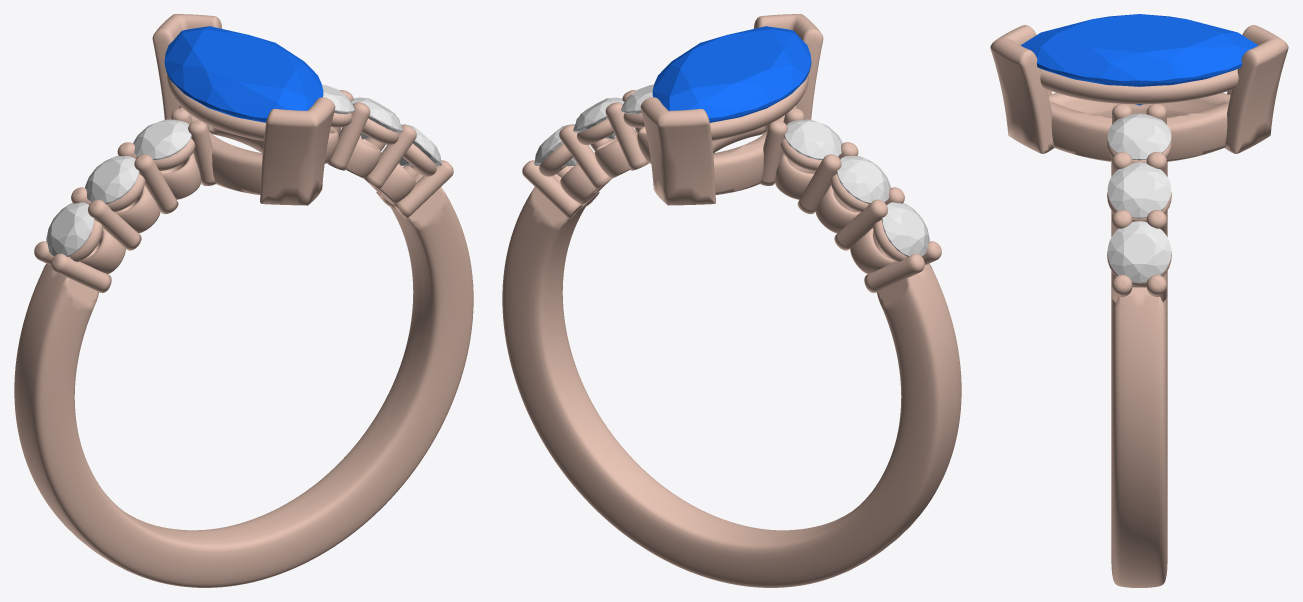
Rendered from bluesapphire-marquise-rosegold-protectededges2prongs-straightband-7stone.glb.
3 views of the same model, side by side, from view 1: azimuth 30°, elevation 25°; view 2: azimuth 150°, elevation 25°; view 3: azimuth 270°, elevation 25° (orthographic). The views are drawn at different scales.
Visible parts, largest first — view 1: metal, stone.002, dia.001, dia.009, dia.010, dia.012; view 2: metal, stone.002, dia.001, dia.009, dia.010, dia.012; view 3: metal, stone.002, dia.011, dia.012, dia.013.
Boxes of the visible parts, box(x1,y1,x2,y2) form: metal: box(14, 14, 473, 587); stone.002: box(164, 26, 323, 122); dia.001: box(46, 202, 94, 256); dia.009: box(85, 156, 139, 203); dia.010: box(133, 119, 191, 160); dia.012: box(351, 97, 402, 139); metal: box(502, 14, 961, 587); stone.002: box(652, 26, 811, 122); dia.001: box(881, 202, 929, 256); dia.009: box(836, 156, 890, 203); dia.010: box(784, 119, 842, 160); dia.012: box(573, 97, 624, 139); metal: box(990, 25, 1288, 587); stone.002: box(1020, 14, 1258, 105); dia.011: box(1107, 221, 1171, 282); dia.012: box(1107, 162, 1171, 218); dia.013: box(1107, 113, 1171, 160).
Bounding box in the file's own units: 20.5 × 22.94 × 11.69.
